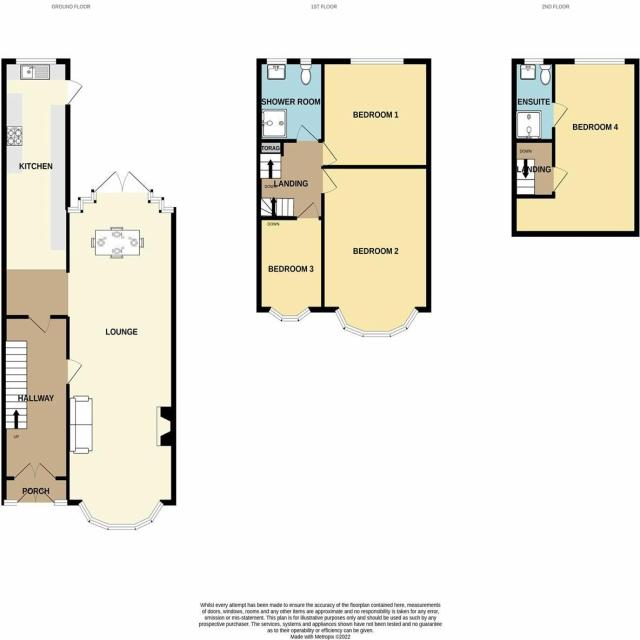DOOR: (27, 314, 52, 336), (321, 167, 339, 195), (66, 358, 84, 385), (65, 79, 83, 106), (296, 201, 320, 221), (296, 123, 320, 143), (552, 166, 569, 193), (321, 140, 338, 167), (552, 102, 569, 128)
DOUBLE DOOR: (91, 161, 152, 197)
ROOM: (511, 58, 640, 237), (321, 165, 432, 338), (1, 58, 84, 273), (321, 58, 432, 169), (256, 201, 325, 322)
WINDOW: (77, 499, 165, 531), (334, 307, 420, 338), (67, 189, 97, 214), (268, 306, 312, 322), (147, 189, 175, 214), (350, 57, 405, 65), (574, 58, 625, 65), (15, 58, 57, 65), (266, 58, 288, 65), (524, 58, 544, 65), (299, 58, 312, 65)
